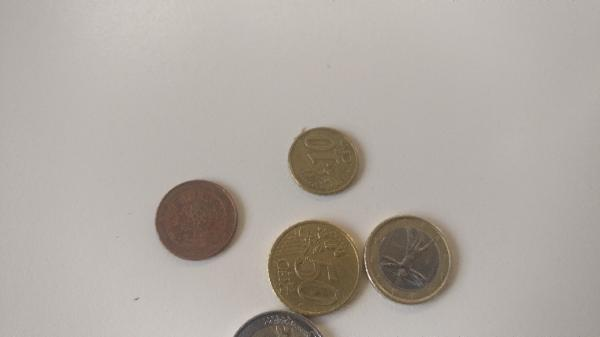Fifty Cent: (264, 220, 362, 314)
Five Cent: (153, 179, 239, 262)
One Euro: (362, 215, 454, 307)
Ten Cent: (287, 122, 361, 200)
Two Euro: (232, 311, 323, 337)
